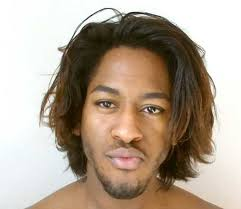black_male: (81, 63, 177, 209)
